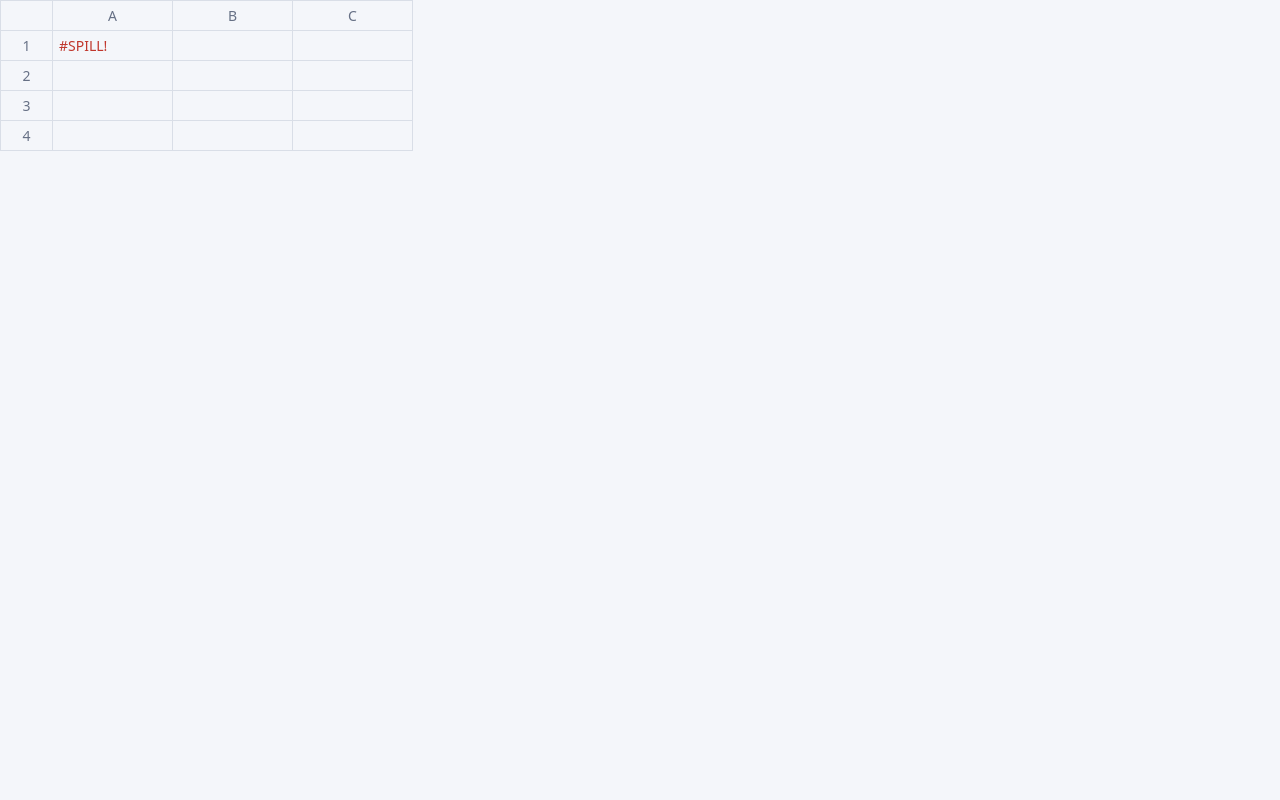
rendering › focuses the spill resize button with Alt+Enter and returns to the grid on Escape
Press the mouse on the cell "#SPILL!": (112, 46) [52,30,172,60]
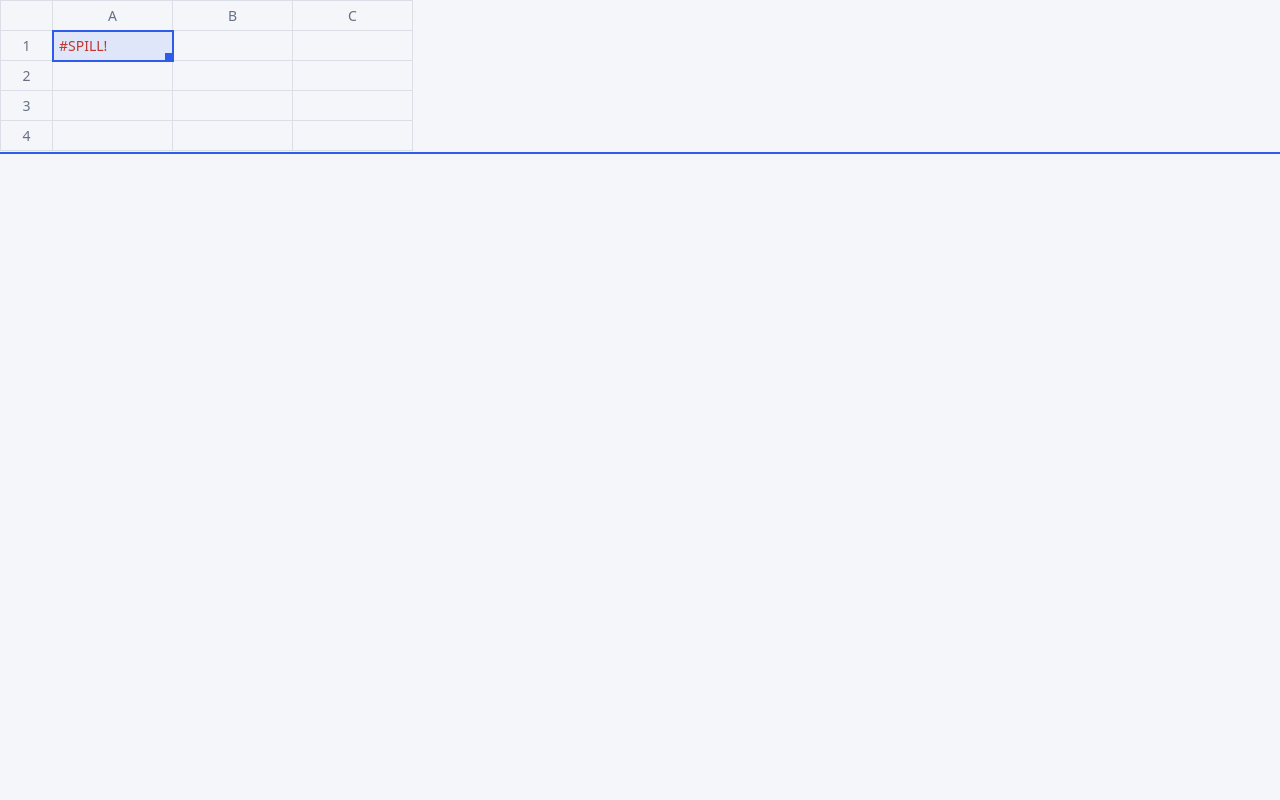
Press Enter in the table, box [0,0,412,150]
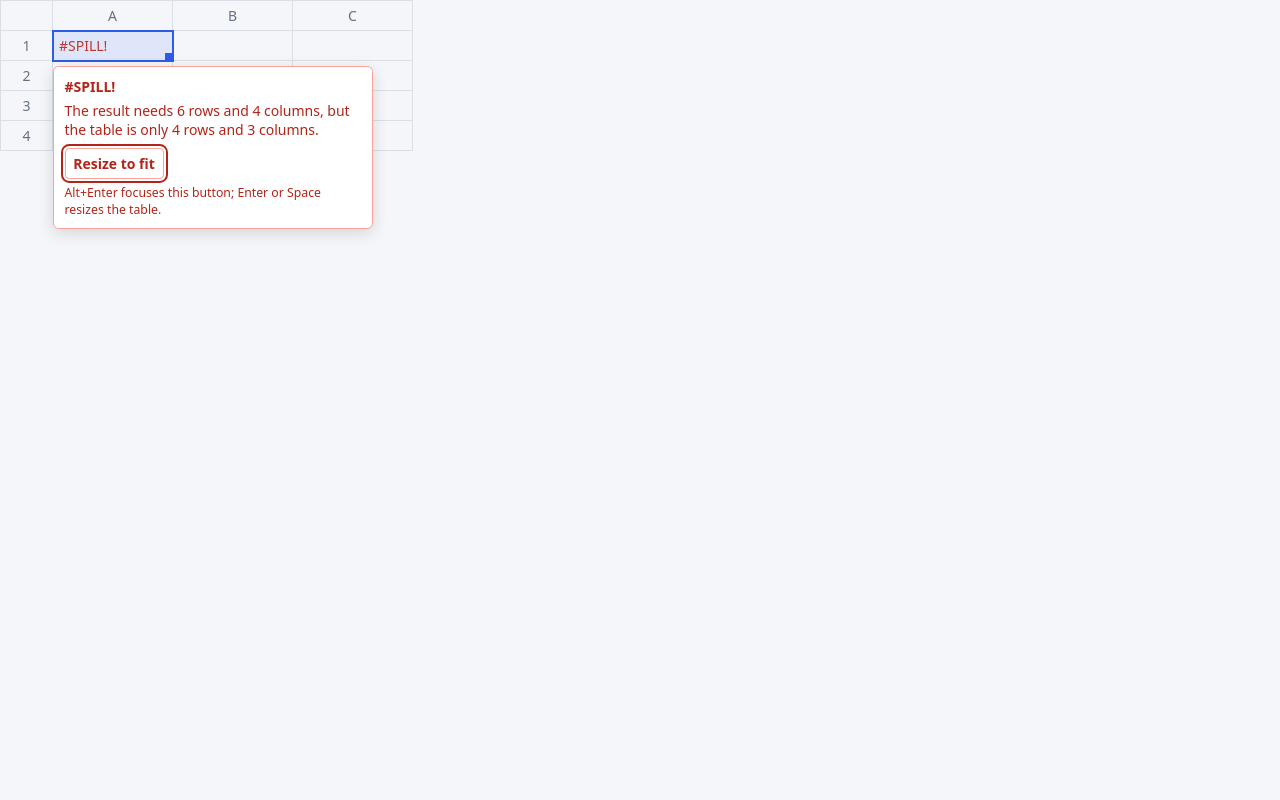
Now the text with class "cell-error-popover__hint" shows "Alt+Enter", box [64,184,321,218]
Press Escape in the button with class "cell-error-popover__action", box [64,148,164,179]
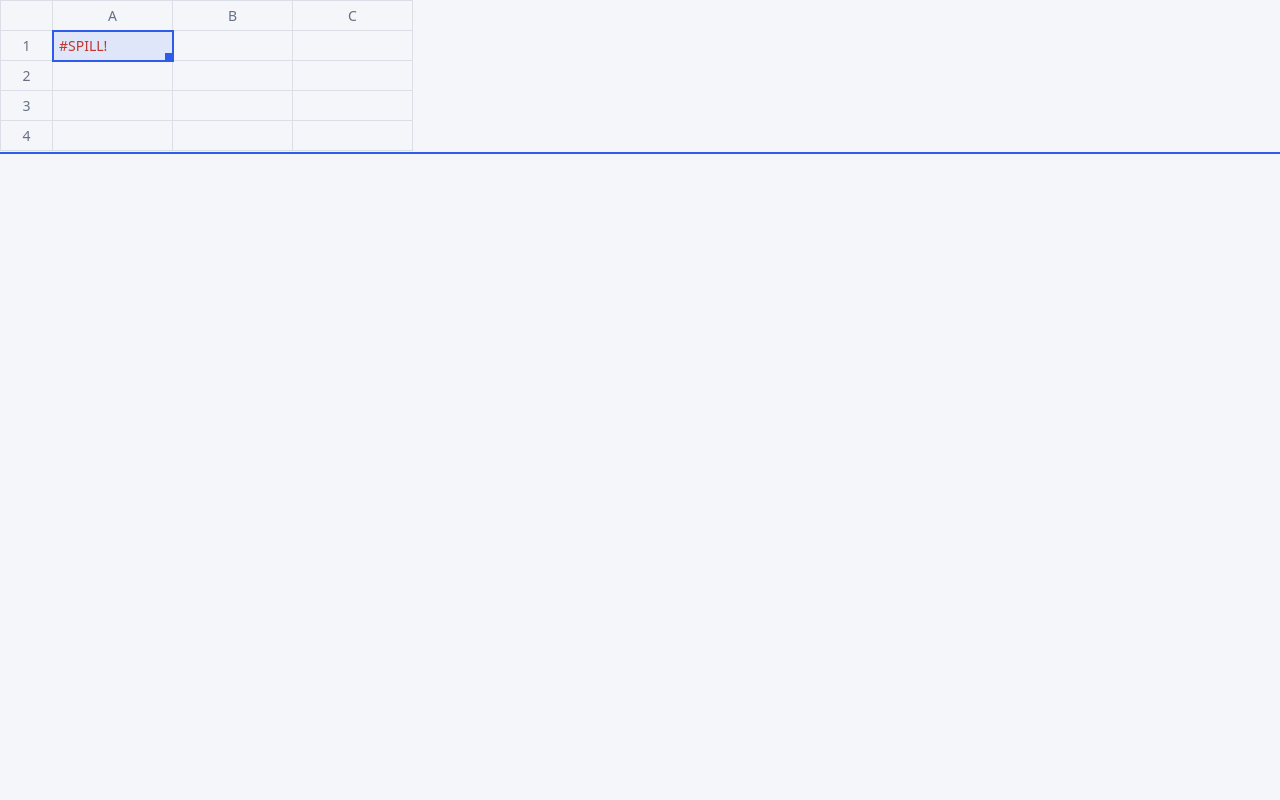
Now the button with class "cell-error-popover__action" is gone
